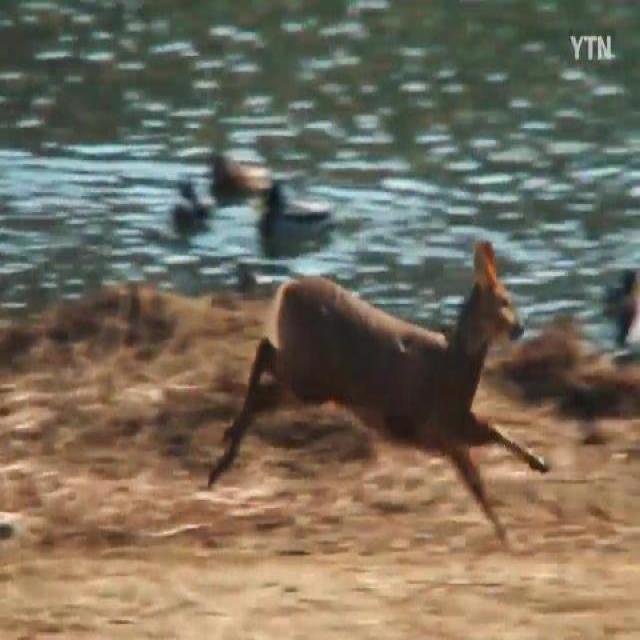deer: (206, 238, 554, 545)
